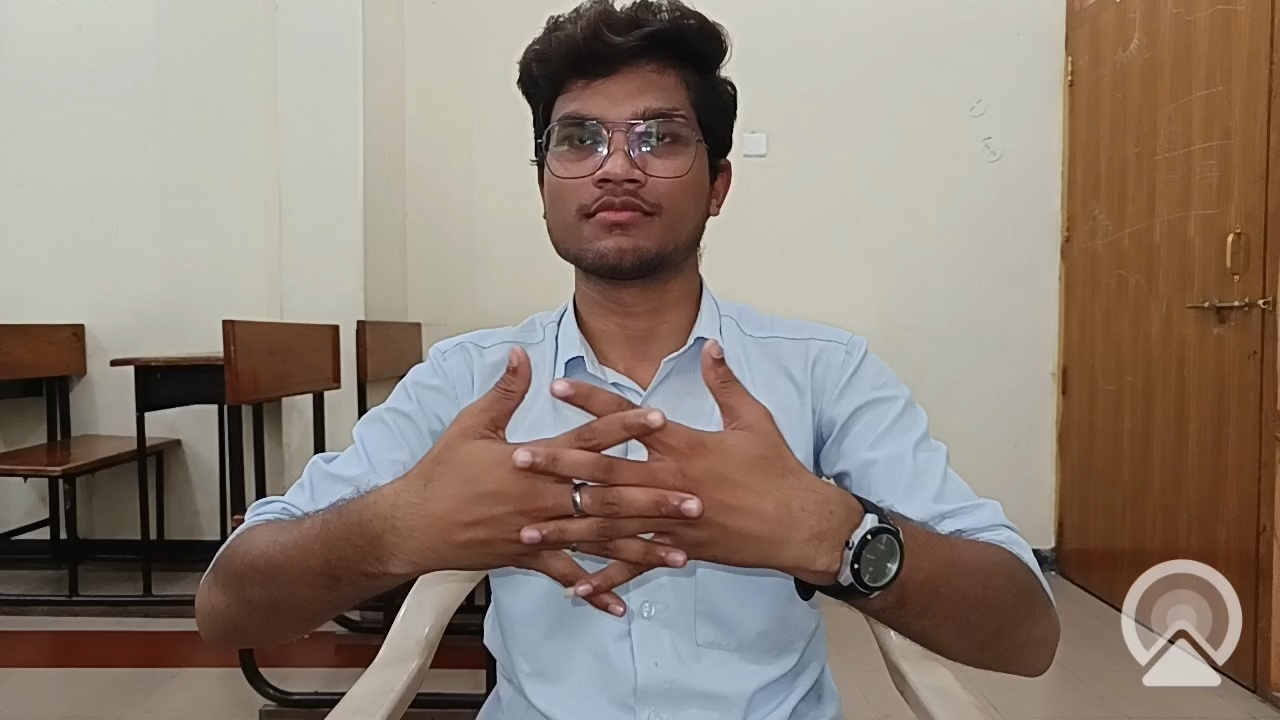W: (337, 297, 836, 632)
